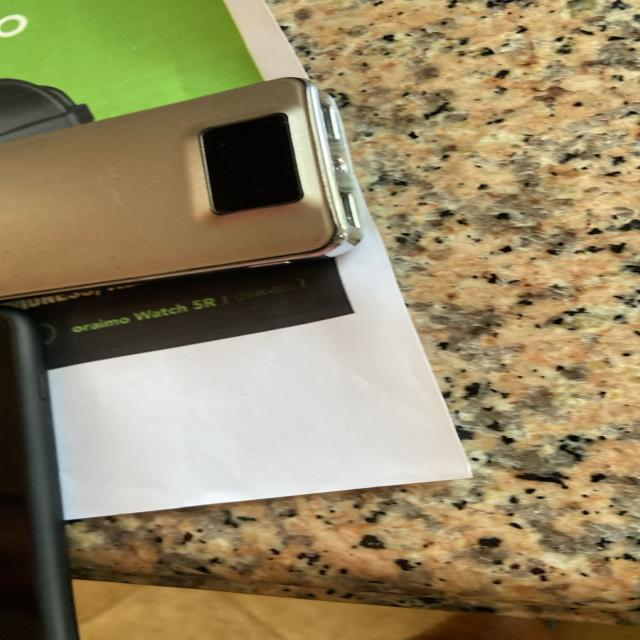Oraimo Watch 5R OSW-820: (71, 278, 327, 337)
